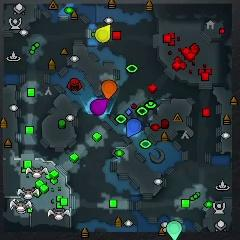p1: (126, 119, 142, 137)
p2: (166, 221, 181, 240)
p3: (90, 99, 108, 116)
p4: (95, 25, 111, 43)
p5: (102, 80, 117, 99)
